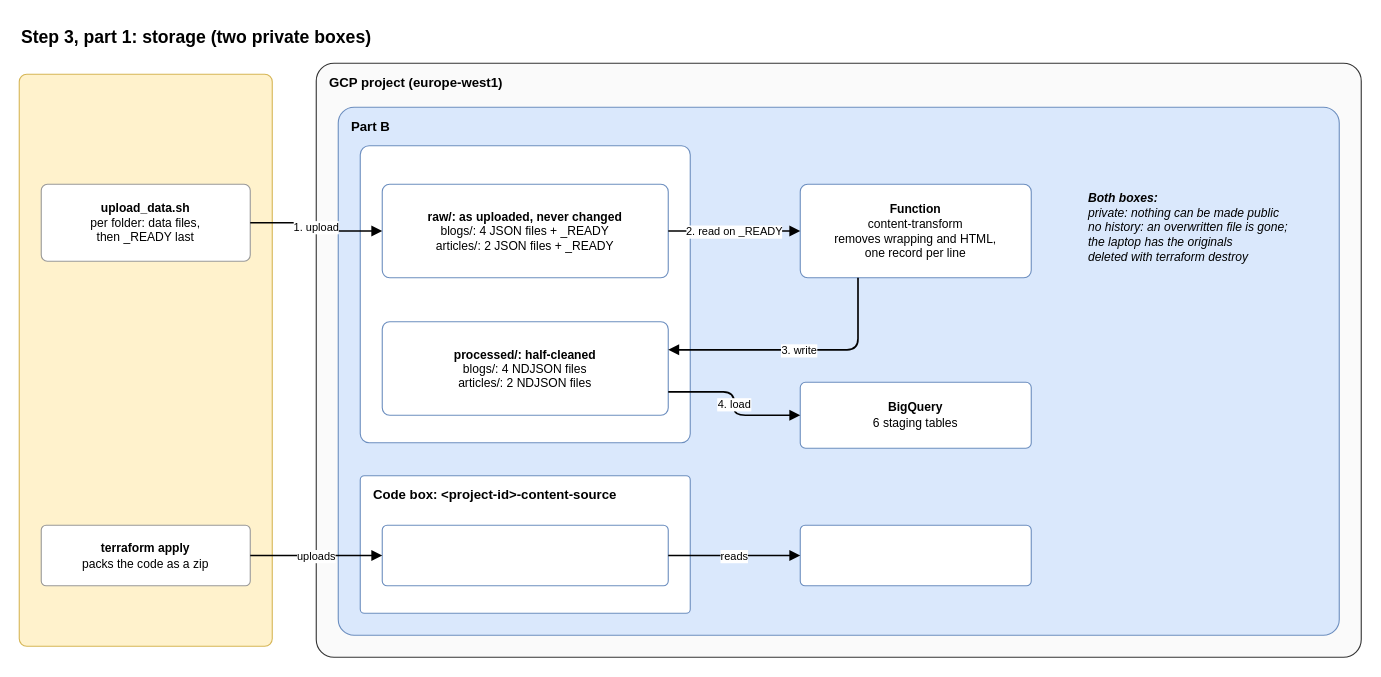
The diagram is 1381 pixels wide and 677 high, and some of its shapes have lost their labels. Here are the shapes that lost their labels. From the top down, the box of each, then its label:
(359, 145, 690, 443): Data box: <project-id>-content-data
(18, 73, 272, 646): Laptop
(381, 524, 668, 586): function-source-<md5>.zip the function's Python code
(799, 524, 1031, 586): Cloud Build builds the function
